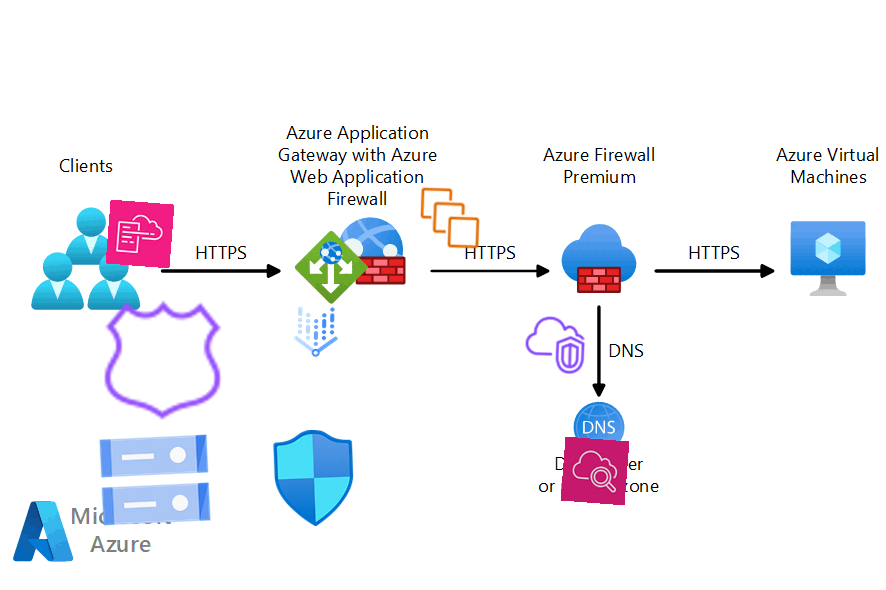aws_amazon_cloudwatch: (560, 436, 630, 506)
aws_cloudformation: (105, 199, 175, 269)
aws_ec2_instances: (416, 184, 484, 252)
aws_route_53_hosted_zone: (99, 295, 229, 425)
aws_vpc_virtual_private_cloud_vpc: (521, 311, 589, 379)
azure_network_security_groups: (264, 428, 364, 528)
gcp_cloud_storage: (88, 413, 222, 547)
gcp_vertex_ai: (283, 299, 349, 365)
